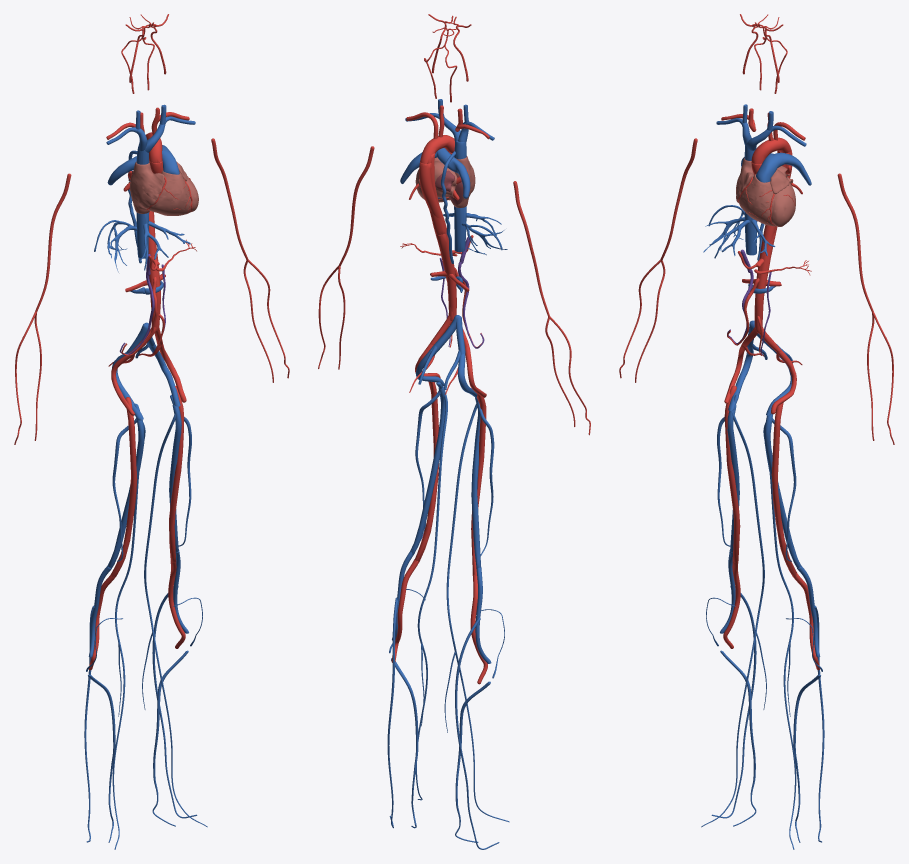
File: cardio.glb
3 renders of one model, left to right at view 1: azimuth 30°, elevation 25°; view 2: azimuth 150°, elevation 25°; view 3: azimuth 330°, elevation 25°, orthographic.
Visible parts, largest first — view 1: Wall of ventricle, Wall of right atrium, Left great saphenous vein, Right femoral artery, Right great saphenous vein, Left femoral artery, Right femoral vein, Left femoral vein, Left small saphenous vein, Left posterior tibial vein, Right small saphenous vein, Right hepatic vein (+1 smaller); view 2: Right great saphenous vein, Descending aorta, Left great saphenous vein, Left femoral vein, Right femoral vein, Left femoral artery, Right femoral artery, Right small saphenous vein, Left small saphenous vein, Right pulmonary artery, Arch of aorta, Inferior vena cava (+4 smaller); view 3: Wall of ventricle, Right great saphenous vein, Left femoral artery, Left great saphenous vein, Right femoral artery, Left femoral vein, Right femoral vein, Abdominal aorta, Right small saphenous vein, Arch of aorta, Right posterior tibial vein, Left small saphenous vein (+1 smaller).
Boxes of the visible parts, <box> form: Wall of ventricle: <box>148,170,198,215</box>; Wall of right atrium: <box>129,161,164,213</box>; Left great saphenous vein: <box>142,414,207,827</box>; Right femoral artery: <box>110,397,137,577</box>; Right great saphenous vein: <box>112,420,145,849</box>; Left femoral artery: <box>169,386,184,562</box>; Right femoral vein: <box>107,419,144,568</box>; Left femoral vein: <box>169,404,181,552</box>; Left small saphenous vein: <box>152,586,197,818</box>; Left posterior tibial vein: <box>152,650,188,826</box>; Right small saphenous vein: <box>84,605,94,842</box>; Right hepatic vein: <box>94,220,137,272</box>; Right great saphenous vein: <box>444,404,509,822</box>; Descending aorta: <box>419,161,456,321</box>; Left great saphenous vein: <box>415,394,447,800</box>; Left femoral vein: <box>410,386,445,554</box>; Right femoral vein: <box>471,397,480,569</box>; Left femoral artery: <box>414,381,438,562</box>; Right femoral artery: <box>471,388,486,575</box>; Right small saphenous vein: <box>455,617,499,849</box>; Left small saphenous vein: <box>387,597,397,828</box>; Right pulmonary artery: <box>436,148,470,198</box>; Arch of aorta: <box>420,135,454,163</box>; Inferior vena cava: <box>454,206,466,252</box>; Wall of ventricle: <box>738,174,795,226</box>; Right great saphenous vein: <box>701,411,766,827</box>; Left femoral artery: <box>771,397,796,577</box>; Left great saphenous vein: <box>763,423,796,849</box>; Right femoral artery: <box>724,385,740,563</box>; Left femoral vein: <box>764,414,801,567</box>; Right femoral vein: <box>727,405,739,552</box>; Abdominal aorta: <box>755,233,775,332</box>; Right small saphenous vein: <box>711,586,756,818</box>; Arch of aorta: <box>751,137,791,164</box>; Right posterior tibial vein: <box>720,650,756,826</box>; Left small saphenous vein: <box>814,605,824,842</box>.
Size of the model in its own units: 0.7008 by 2 by 0.2236.
